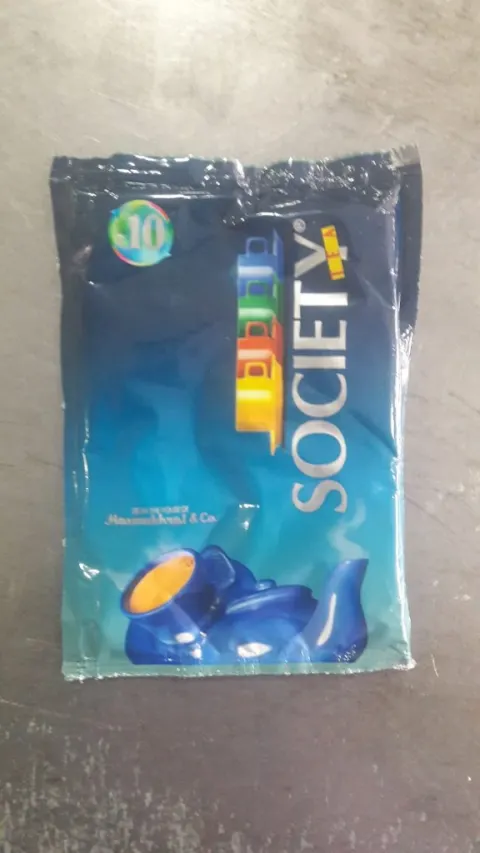society: (48, 159, 418, 681)
